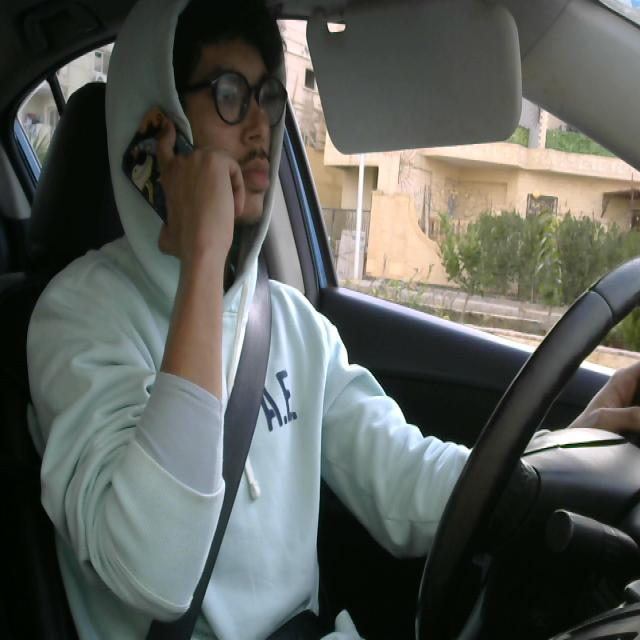mobile use: (114, 106, 224, 242)
